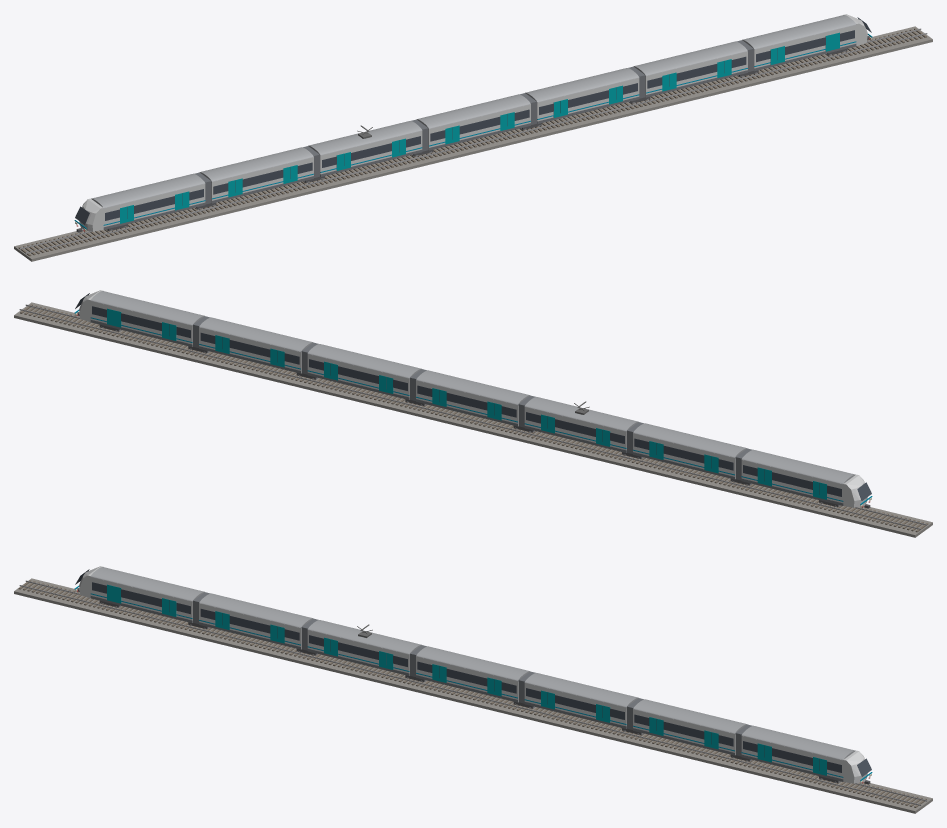
3 views of the same model, one above another, from view 1: azimuth 30°, elevation 25°; view 2: azimuth 150°, elevation 25°; view 3: azimuth 330°, elevation 25° (orthographic).
Parts seen in each view (by area): view 1: geometry_0; view 2: geometry_0; view 3: geometry_0.
Boxes of the visible parts, x1,y1,x2,y2 form: geometry_0: (14,14,932,261); geometry_0: (14,290,932,537); geometry_0: (14,566,932,813).
Size of the model in its own units: 124 by 5.71 by 4.2.
